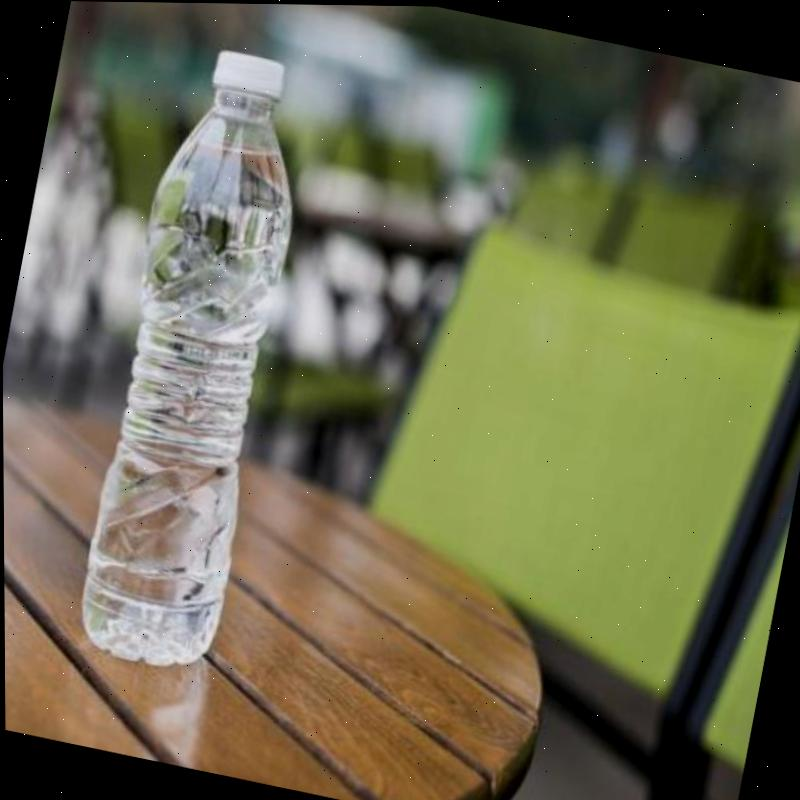botella: (55, 32, 331, 681)
